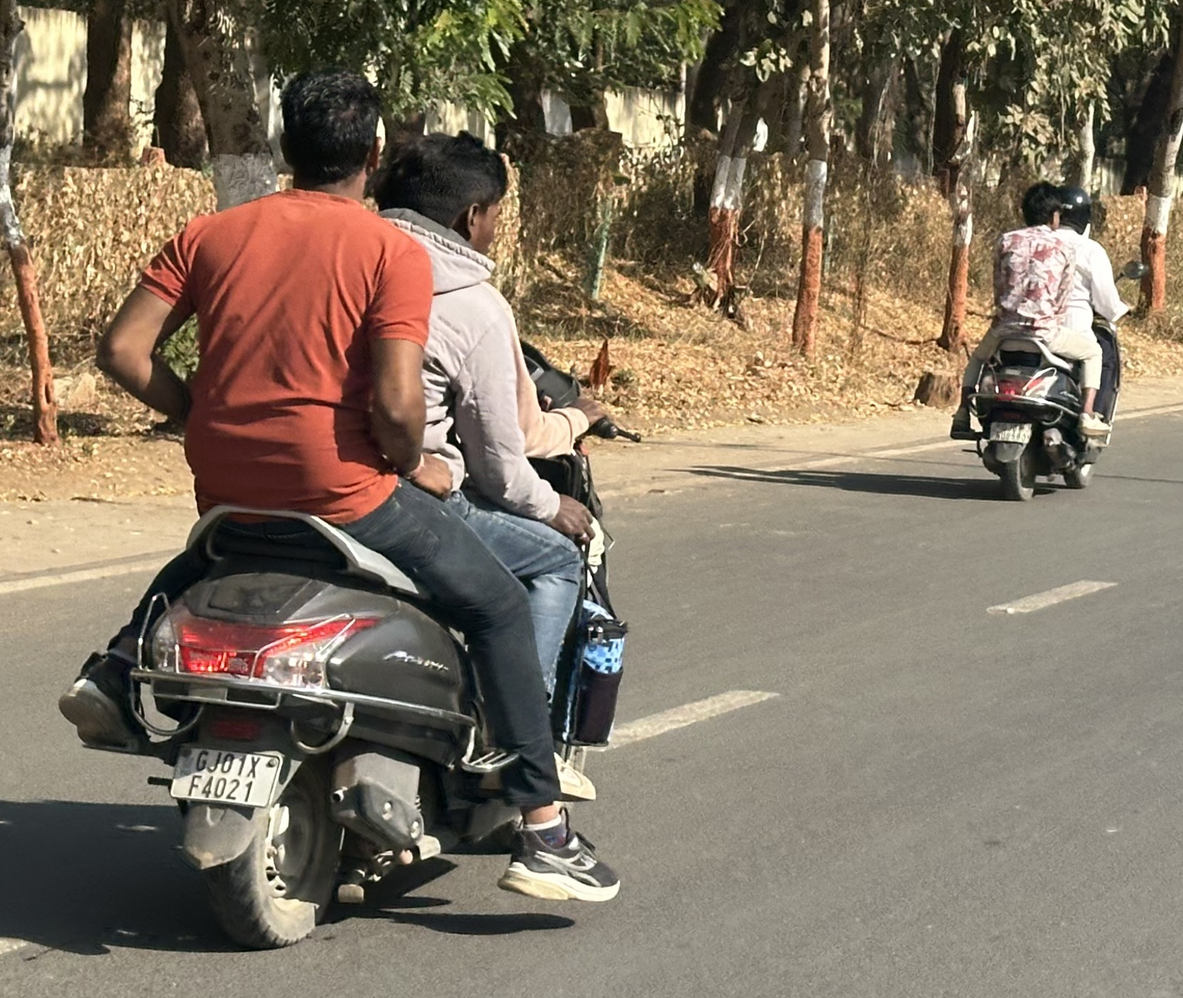BikeWithRider: (41, 57, 650, 959), (938, 171, 1144, 508)
Helmet: (1044, 178, 1097, 239)
NoHelmet: (369, 123, 523, 266), (262, 59, 398, 212), (1014, 175, 1068, 234)
